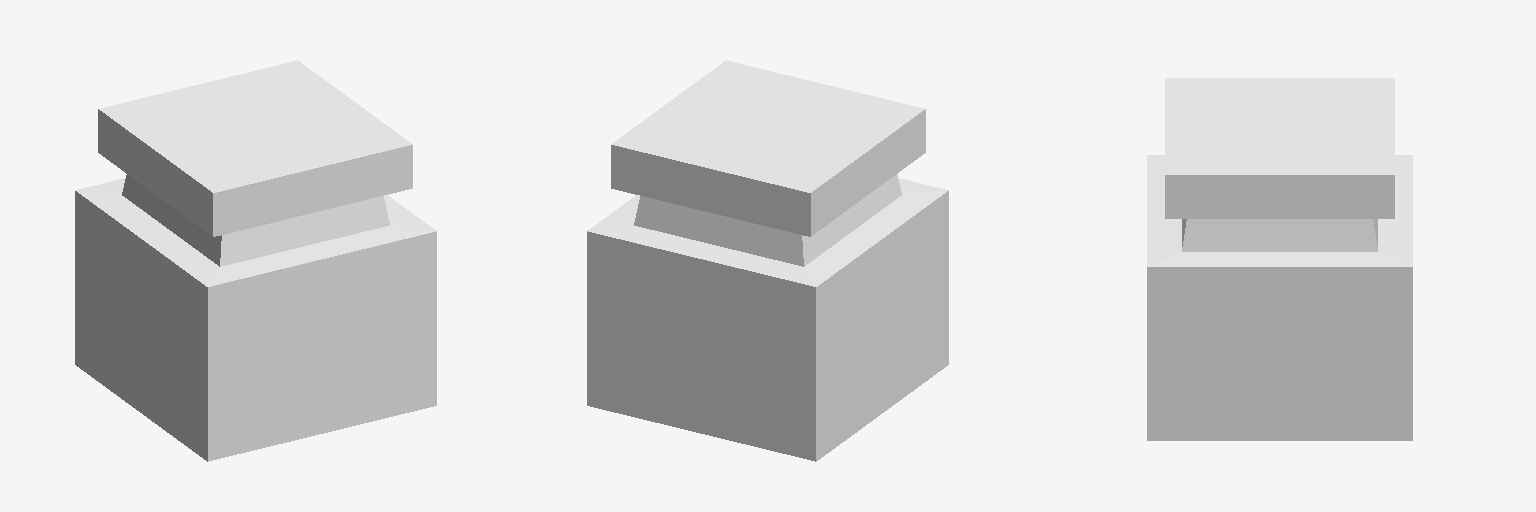
Rendered from cookiejar.obj.
3 renders of one model, left to right at view 1: azimuth 30°, elevation 25°; view 2: azimuth 150°, elevation 25°; view 3: azimuth 270°, elevation 25°, orthographic.
Visible parts, largest first — view 1: jar, lid; view 2: jar, lid; view 3: jar, lid.
Boxes of the visible parts, x1=… form: jar: x1=75, y1=174, x2=436, y2=461; lid: x1=98, y1=60, x2=412, y2=236; jar: x1=587, y1=174, x2=948, y2=461; lid: x1=611, y1=60, x2=925, y2=236; jar: x1=1147, y1=155, x2=1412, y2=440; lid: x1=1165, y1=78, x2=1394, y2=218.
Bounding box in the file's own units: 0.7001 × 0.7539 × 0.7002.